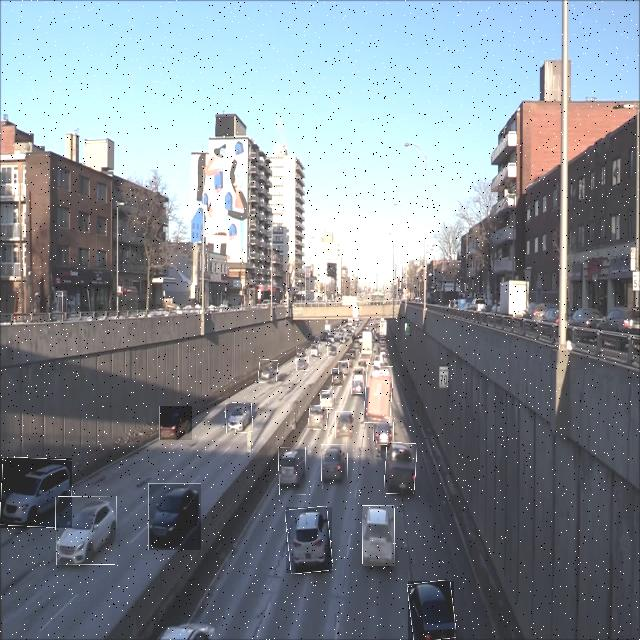Car: (0, 458, 72, 528), (56, 496, 117, 565), (148, 483, 201, 550), (286, 507, 332, 573), (408, 581, 454, 640), (363, 505, 395, 566), (279, 447, 306, 495), (322, 444, 348, 489), (159, 406, 192, 441), (225, 403, 253, 433), (374, 417, 394, 445), (335, 411, 354, 438), (309, 405, 328, 430), (259, 360, 278, 383), (321, 390, 334, 409), (331, 369, 344, 387), (296, 357, 309, 371), (351, 380, 364, 394), (354, 367, 364, 383), (338, 361, 349, 374), (296, 346, 306, 360), (312, 344, 322, 356), (327, 346, 338, 356)
Truck: (385, 443, 417, 494), (366, 366, 392, 423), (373, 330, 374, 336)
